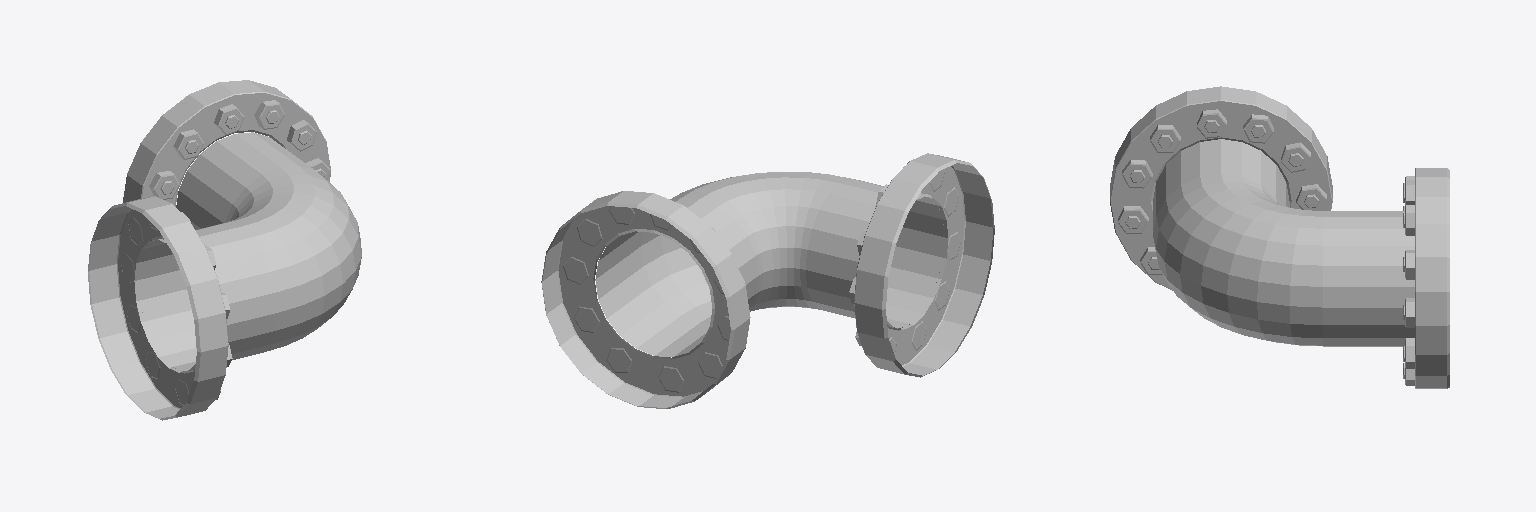
File: CurvePipe_SIngle.obj
The picture shows the model from 3 angles: view 1: azimuth 30°, elevation 25°; view 2: azimuth 150°, elevation 25°; view 3: azimuth 270°, elevation 25°; orthographic projection.
Parts seen in each view (by area): view 1: polySurface69; view 2: polySurface69; view 3: polySurface69.
Boxes of the visible parts, box(x1,y1,x2,y2) form: polySurface69: box(88, 80, 361, 420); polySurface69: box(541, 153, 994, 408); polySurface69: box(1110, 86, 1449, 388).
Bounding box in the file's own units: 153 × 103 × 158.